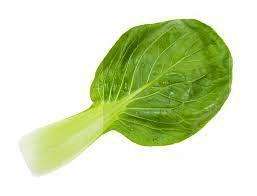Healthy-Pechay: (12, 0, 250, 185)
